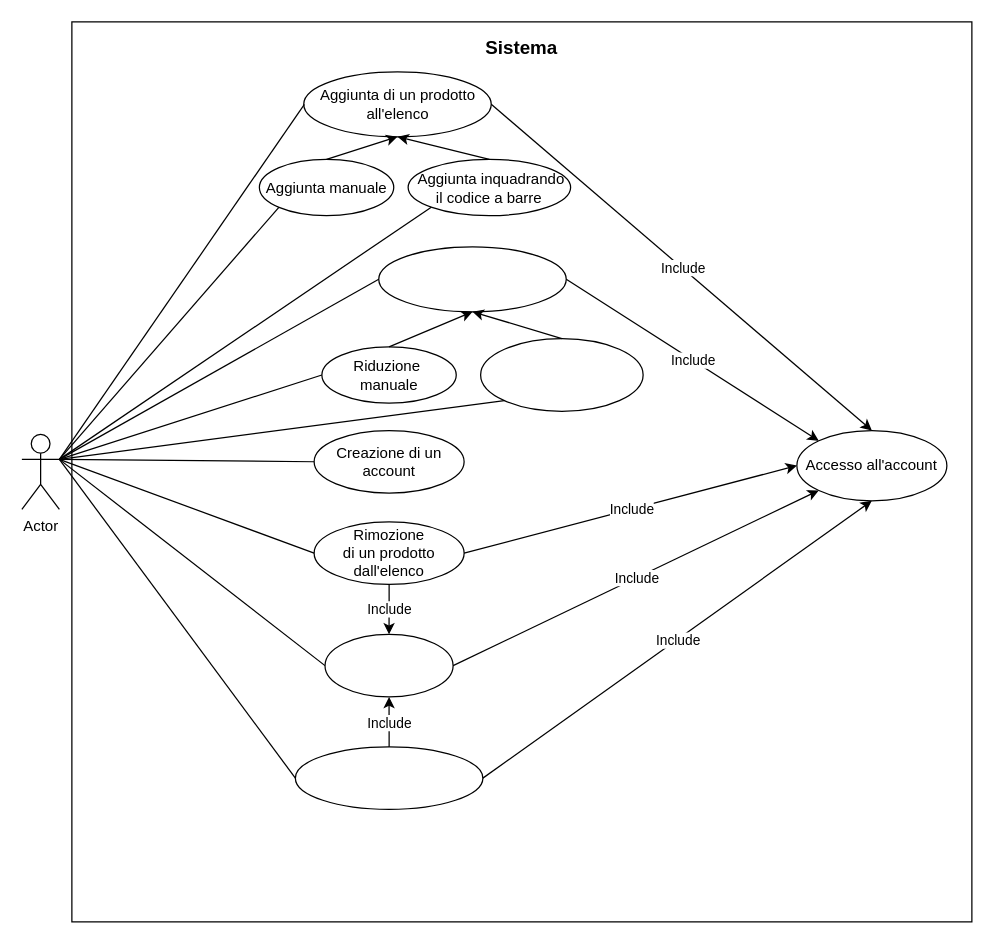
Image size: 994x944. Some labels were removed from this diagram. Each missing label, with the box of its shape:
Ricerca di un prodotto nell'elenco: (294, 746, 483, 809)
Riduzione di un prodotto dell'elenco: (378, 246, 566, 312)
Riduzione inquadrando il codice a barre: (479, 337, 643, 411)
Visualizzazione dell'elenco: (324, 633, 453, 697)
